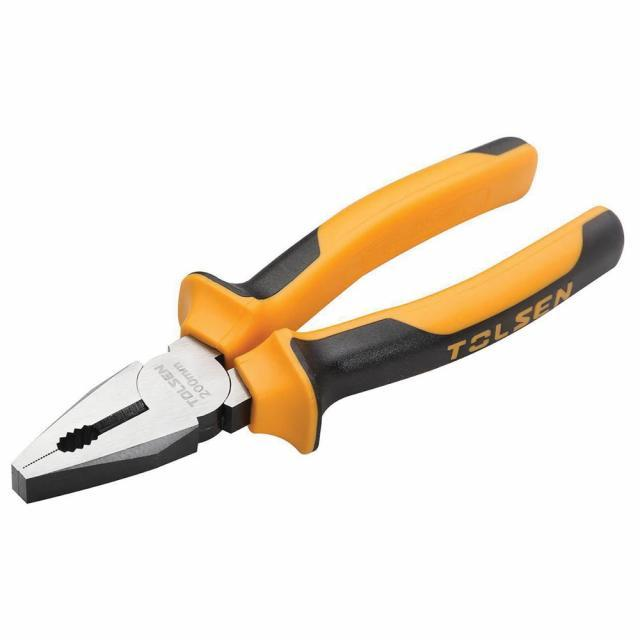pliers: (8, 133, 630, 512)
